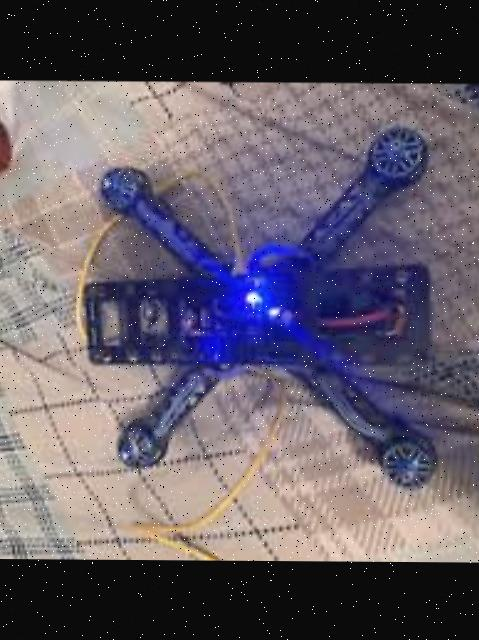drone: (39, 130, 479, 499)
